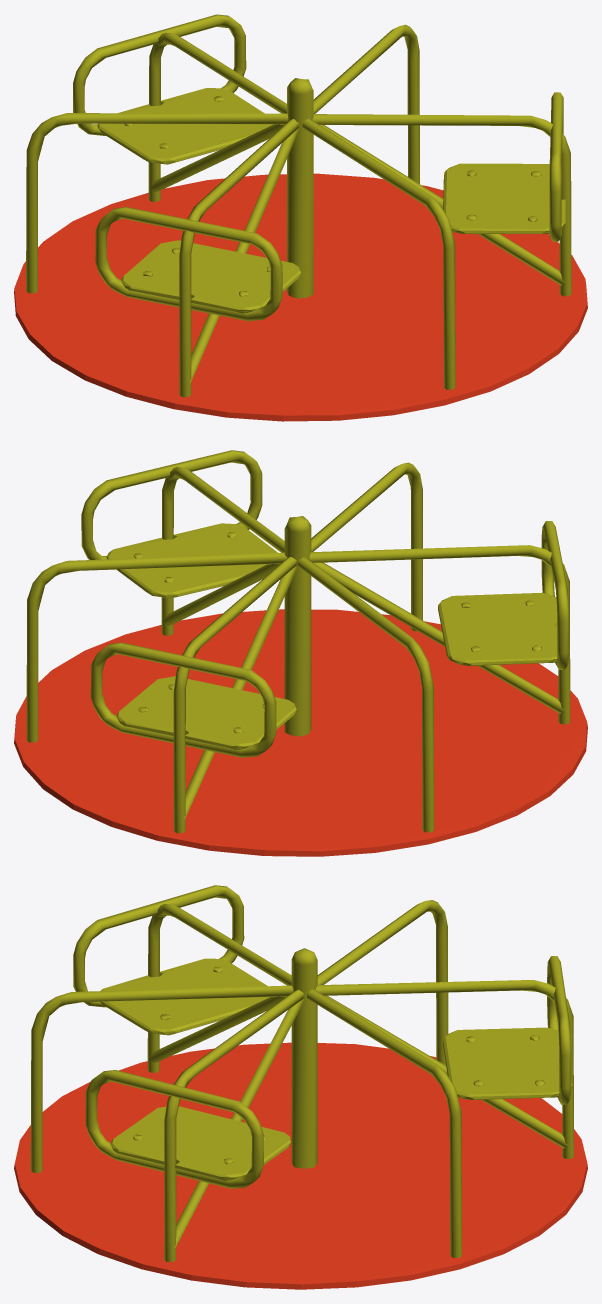
The model's file is merry_LOD2.fbx.
3 renders of one model, top to bottom at view 1: azimuth 30°, elevation 25°; view 2: azimuth 150°, elevation 25°; view 3: azimuth 270°, elevation 25°, orthographic.
Visible parts, largest first — view 1: child swing2; view 2: child swing2; view 3: child swing2.
Boxes of the visible parts, x1,y1,x2,y2 form: child swing2: (14, 14, 587, 421); child swing2: (14, 450, 587, 856); child swing2: (14, 885, 587, 1289).
Size of the model in its own units: 790 by 386 by 790.
